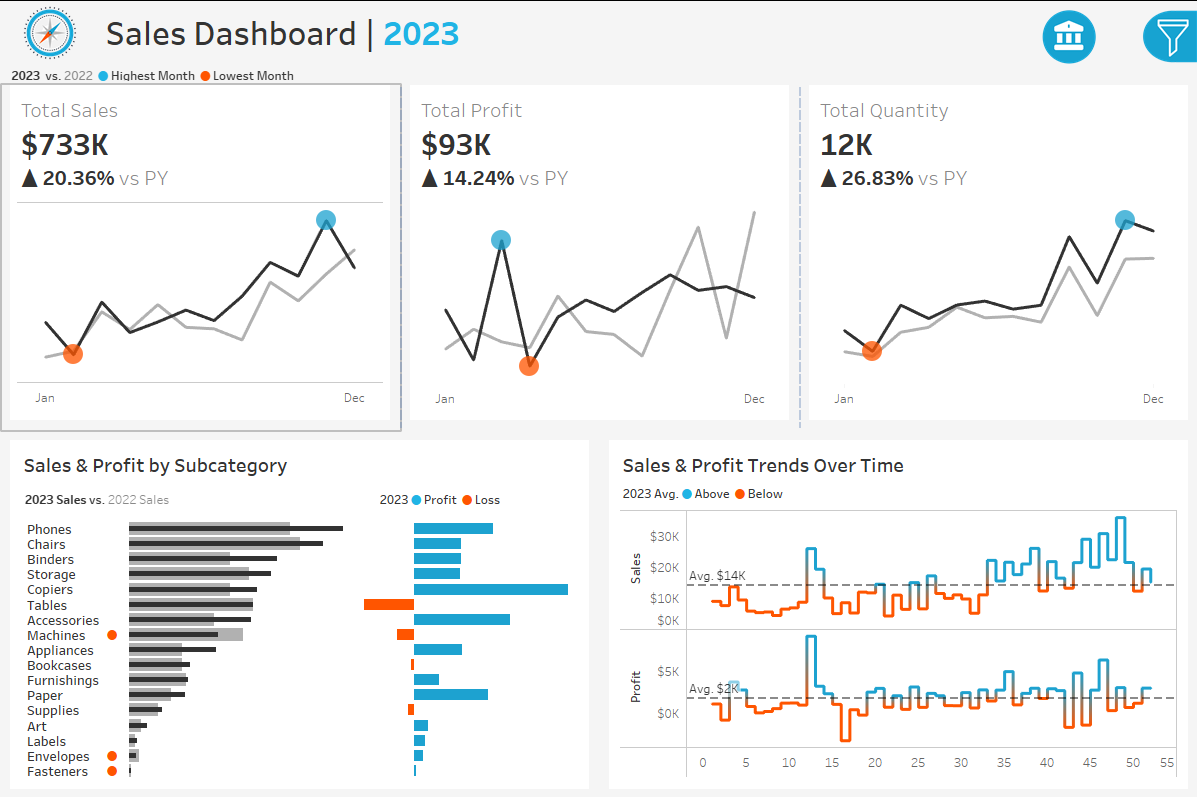

What the dashboard file says about the page in this screenshot:
{"tool":"tableau","page":{"name":"Dashboard 1","canvas":[1200,800],"ordinal":0},"visuals":[{"type":"image","param":"Image/Icon - Logo.png","box":[1,1,99,63]},{"type":"text","box":[100,1,800,63]},{"type":"image","param":"Image/Icon - Sales Dashboard.png","box":[1019,5,101,63]},{"type":"blank","box":[975,10,213,66]},{"type":"worksheet","title":"KPI Legend","mark":"Automatic","box":[1,64,1198,21]},{"type":"text","box":[975,76,213,35]},{"type":"worksheet","title":"KPI Sales","mark":"Automatic","rows":["Calculation_1742330152379252747"],"cols":["Order Date"],"box":[1,85,400,345]},{"type":"worksheet","title":"KPI Profit","mark":"Automatic","rows":["Min/Max Sales (copy)_1742330152379703308"],"cols":["Order Date"],"box":[401,85,399,345]},{"type":"worksheet","title":"KPI Quantity","mark":"Automatic","rows":["Min/Max Profit (copy)_1742330152380063757"],"cols":["Order Date"],"box":[800,85,399,345]},{"type":"parameter","param":"[Parameters].[Parameter 1]","box":[975,111,213,52]},{"type":"blank","box":[975,163,213,48]},{"type":"text","box":[975,211,213,29]},{"type":"filter","title":"KPI Sales","param":"[federated.0vh61360klbljr14nzje80lm5yb4].[none:Category:nk]","box":[975,240,213,52]},{"type":"filter","title":"KPI Sales","param":"[federated.0vh61360klbljr14nzje80lm5yb4].[none:Sub-Category:nk]","box":[975,292,213,52]},{"type":"blank","box":[975,344,213,46]},{"type":"text","box":[975,390,213,29]},{"type":"filter","title":"KPI Sales","param":"[federated.0vh61360klbljr14nzje80lm5yb4].[none:Region:nk]","box":[975,419,213,52]},{"type":"text","box":[18,447,565,34]},{"type":"text","box":[617,447,565,34]},{"type":"filter","title":"KPI Sales","param":"[federated.0vh61360klbljr14nzje80lm5yb4].[none:State:nk]","box":[975,471,213,52]},{"type":"worksheet","title":"Subcategory Legend","mark":"Automatic","box":[18,481,356,36]},{"type":"text","box":[374,481,209,36]},{"type":"text","box":[617,481,565,25]},{"type":"worksheet","title":"Weekly Trends","mark":"Automatic","rows":["Calculation_1742330152374591488","CY Sales (copy)_1742330152375934979"],"cols":["Order Date"],"box":[617,506,565,276]},{"type":"worksheet","title":"Subcategory Comparison","mark":"Bar","rows":["Sub-Category","Calculation_1278459390773035008"],"cols":["Calculation_1742330152374861825","Calculation_1742330152374591488","CY Sales (copy)_1742330152375934979"],"box":[18,517,565,264.9]},{"type":"filter","title":"KPI Sales","param":"[federated.0vh61360klbljr14nzje80lm5yb4].[none:City:nk]","box":[975,523,213,52]}]}

Visuals, with their boxes in screenshot pixels (x1, y1, x2, y2), scaled from the page's 1200x800 canvas onto the 1197x797 screenshot:
image: crop(1, 1, 100, 64)
text: crop(100, 1, 898, 64)
image: crop(1016, 5, 1117, 68)
blank: crop(973, 10, 1185, 76)
"KPI Legend" worksheet: crop(1, 64, 1196, 85)
text: crop(973, 76, 1185, 111)
"KPI Sales" worksheet: crop(1, 85, 400, 428)
"KPI Profit" worksheet: crop(400, 85, 798, 428)
"KPI Quantity" worksheet: crop(798, 85, 1196, 428)
parameter: crop(973, 111, 1185, 162)
blank: crop(973, 162, 1185, 210)
text: crop(973, 210, 1185, 239)
"KPI Sales" filter: crop(973, 239, 1185, 291)
"KPI Sales" filter: crop(973, 291, 1185, 343)
blank: crop(973, 343, 1185, 389)
text: crop(973, 389, 1185, 417)
"KPI Sales" filter: crop(973, 417, 1185, 469)
text: crop(18, 445, 582, 479)
text: crop(615, 445, 1179, 479)
"KPI Sales" filter: crop(973, 469, 1185, 521)
"Subcategory Legend" worksheet: crop(18, 479, 373, 515)
text: crop(373, 479, 582, 515)
text: crop(615, 479, 1179, 504)
"Weekly Trends" worksheet: crop(615, 504, 1179, 779)
"Subcategory Comparison" worksheet (Bar marks): crop(18, 515, 582, 779)
"KPI Sales" filter: crop(973, 521, 1185, 573)
